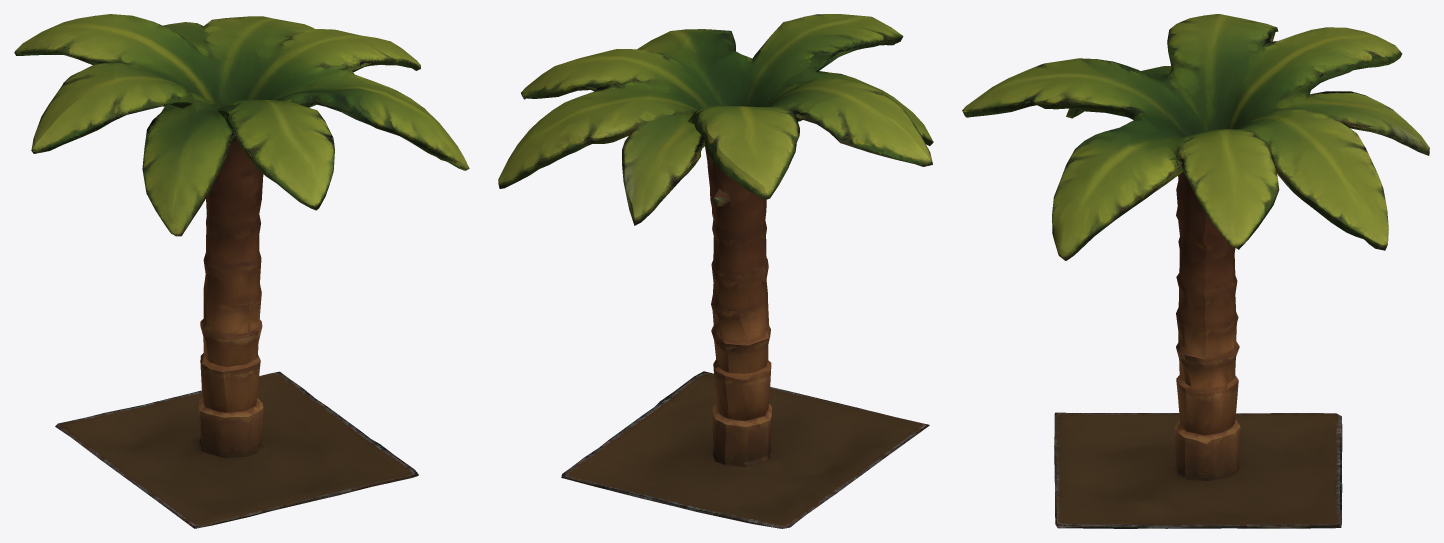
The picture shows the model from 3 angles, left to right: view 1: azimuth 30°, elevation 25°; view 2: azimuth 150°, elevation 25°; view 3: azimuth 270°, elevation 25°; orthographic projection.
Parts seen in each view (by area): view 1: node_b2c1e8bc_4867_4b93_9b48_12b1da90def5_mesh0; view 2: node_b2c1e8bc_4867_4b93_9b48_12b1da90def5_mesh0; view 3: node_b2c1e8bc_4867_4b93_9b48_12b1da90def5_mesh0.
Boxes of the visible parts, x1=… form: node_b2c1e8bc_4867_4b93_9b48_12b1da90def5_mesh0: x1=14, y1=14, x2=469, y2=528; node_b2c1e8bc_4867_4b93_9b48_12b1da90def5_mesh0: x1=498, y1=14, x2=933, y2=528; node_b2c1e8bc_4867_4b93_9b48_12b1da90def5_mesh0: x1=962, y1=14, x2=1429, y2=528.
Bounding box in the file's own units: 44.03 × 42.86 × 44.13.
Materials: 1 (1 with a texture image).
